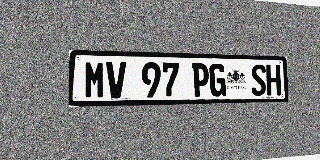7: (161, 62, 179, 97)
9: (142, 62, 161, 98)
G: (209, 63, 226, 97)
H: (266, 65, 281, 96)
M: (84, 61, 105, 99)
P: (192, 63, 209, 97)
S: (251, 64, 266, 96)
V: (106, 61, 126, 98)
